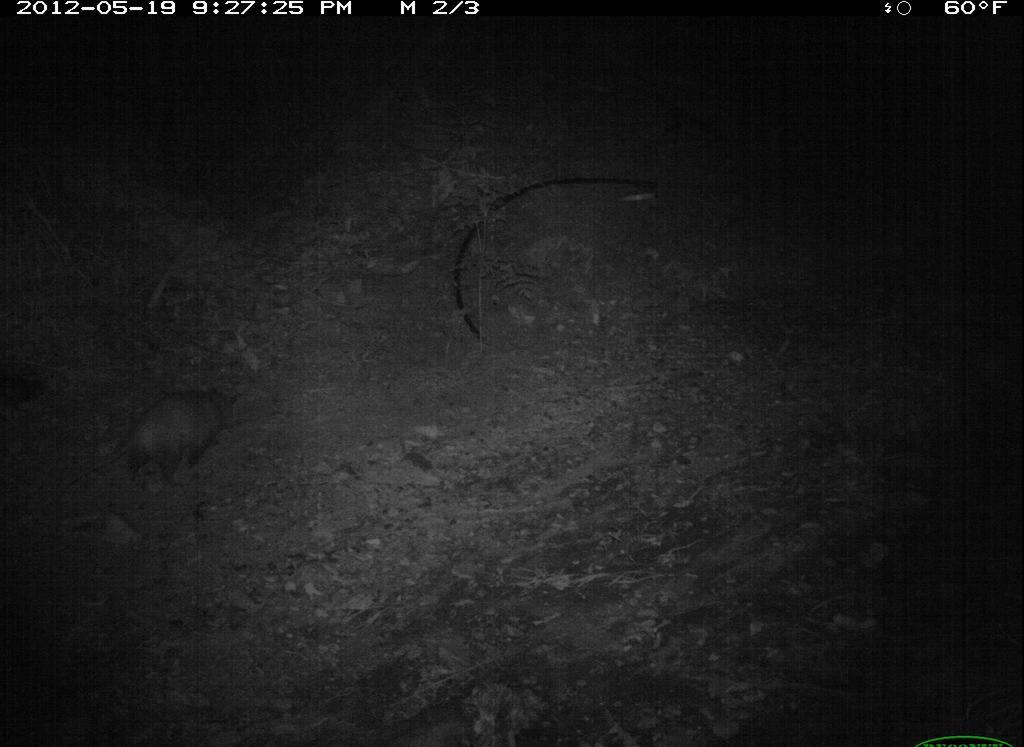opossum: (88, 382, 244, 496)
